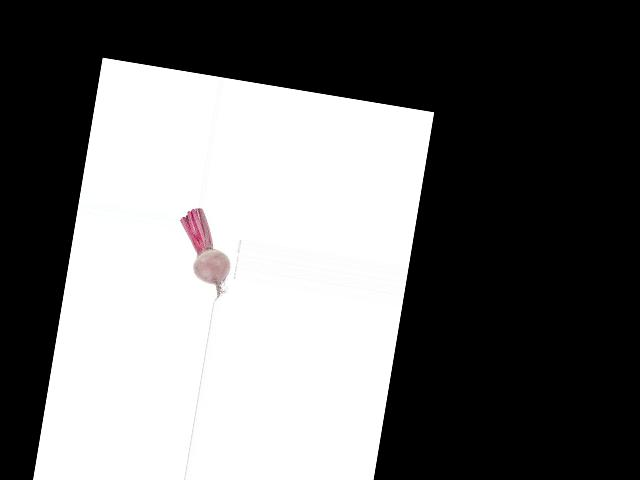beet: (169, 205, 239, 301)
